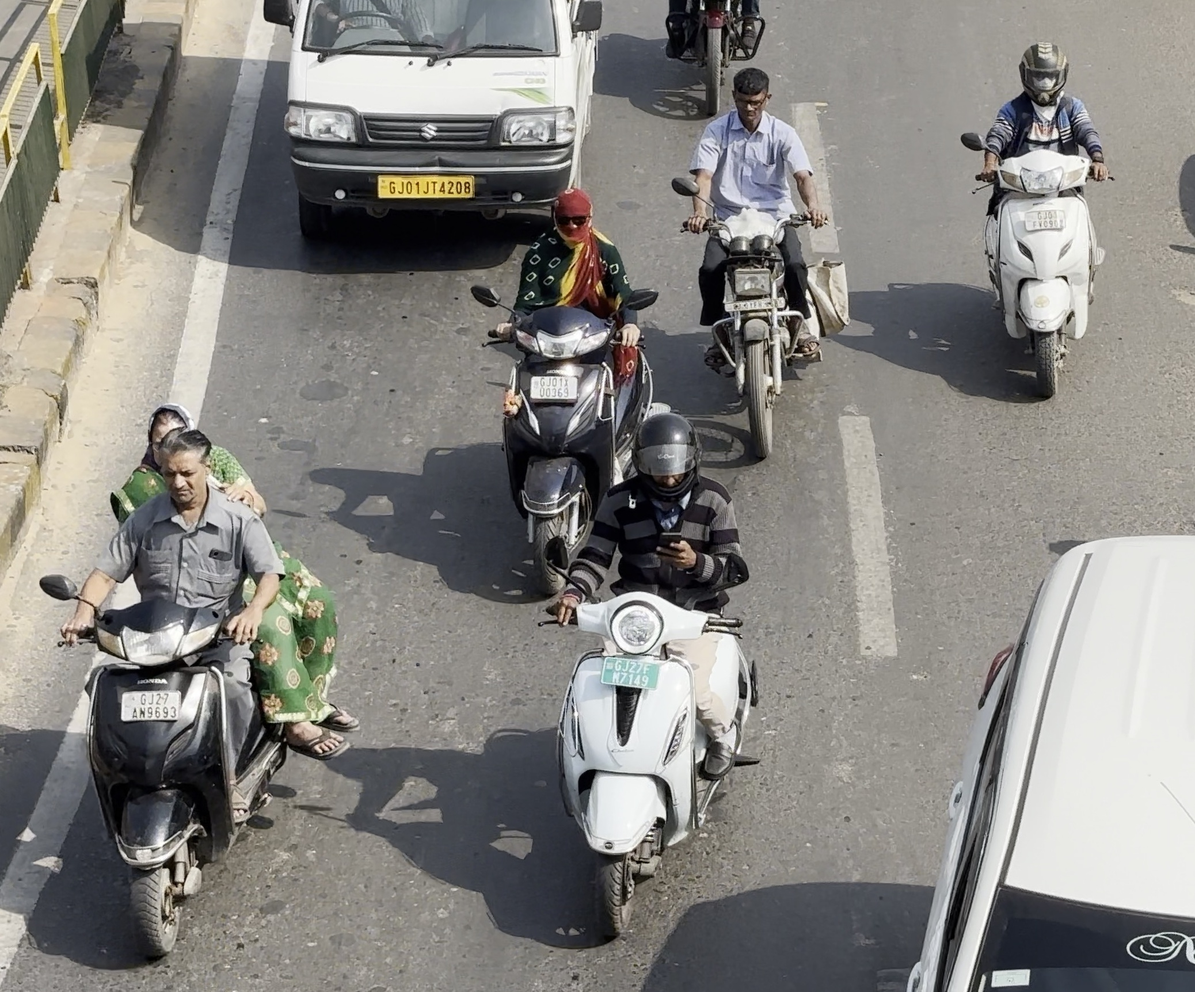BikeWithRider: (29, 398, 368, 966), (531, 403, 774, 949), (462, 178, 672, 608), (663, 59, 853, 470), (952, 32, 1122, 408)
Helmet: (625, 405, 710, 501), (1008, 33, 1079, 109)
NoHelmet: (147, 428, 224, 517), (137, 399, 199, 471), (721, 62, 782, 133), (543, 180, 601, 245)
